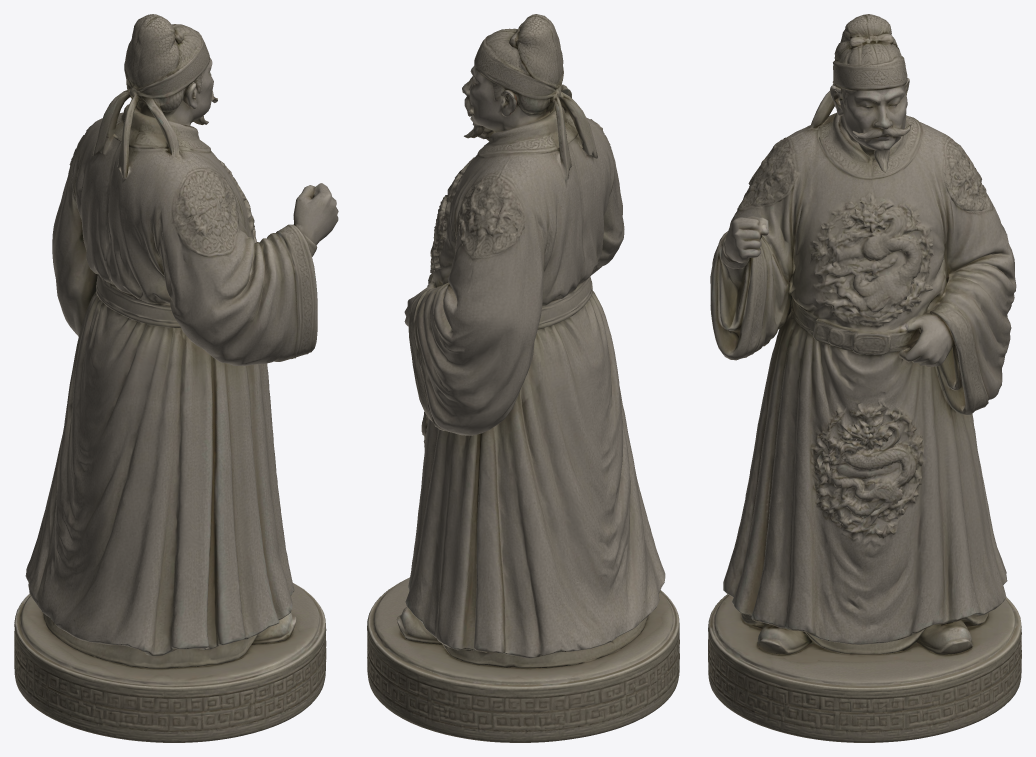
File: ancient_chinese_statue_3d_model_4.fbx
3 renders of one model, left to right at view 1: azimuth 30°, elevation 25°; view 2: azimuth 150°, elevation 25°; view 3: azimuth 270°, elevation 25°, orthographic.
Parts seen in each view (by area): view 1: tripo_node_86825bc4; view 2: tripo_node_86825bc4; view 3: tripo_node_86825bc4.
Part boxes in pixels (box(x1,y1,x2,y2)): tripo_node_86825bc4: box(14, 14, 338, 742); tripo_node_86825bc4: box(367, 14, 679, 742); tripo_node_86825bc4: box(708, 14, 1021, 742).
Size of the model in its own units: 0.4151 by 0.9787 by 0.4224.
